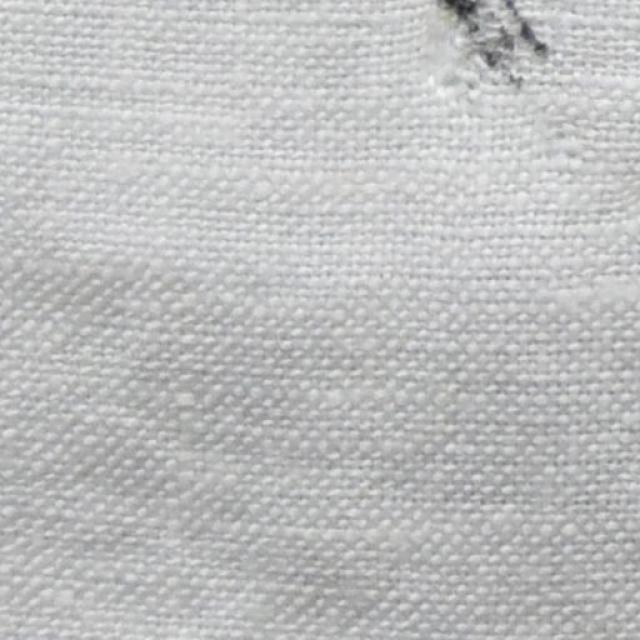Stain: (435, 0, 556, 94)
